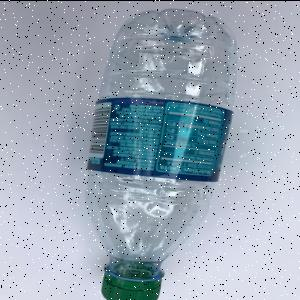Plastic-bottle: (83, 8, 240, 300)
